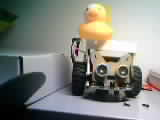duck: (72, 2, 115, 35)
